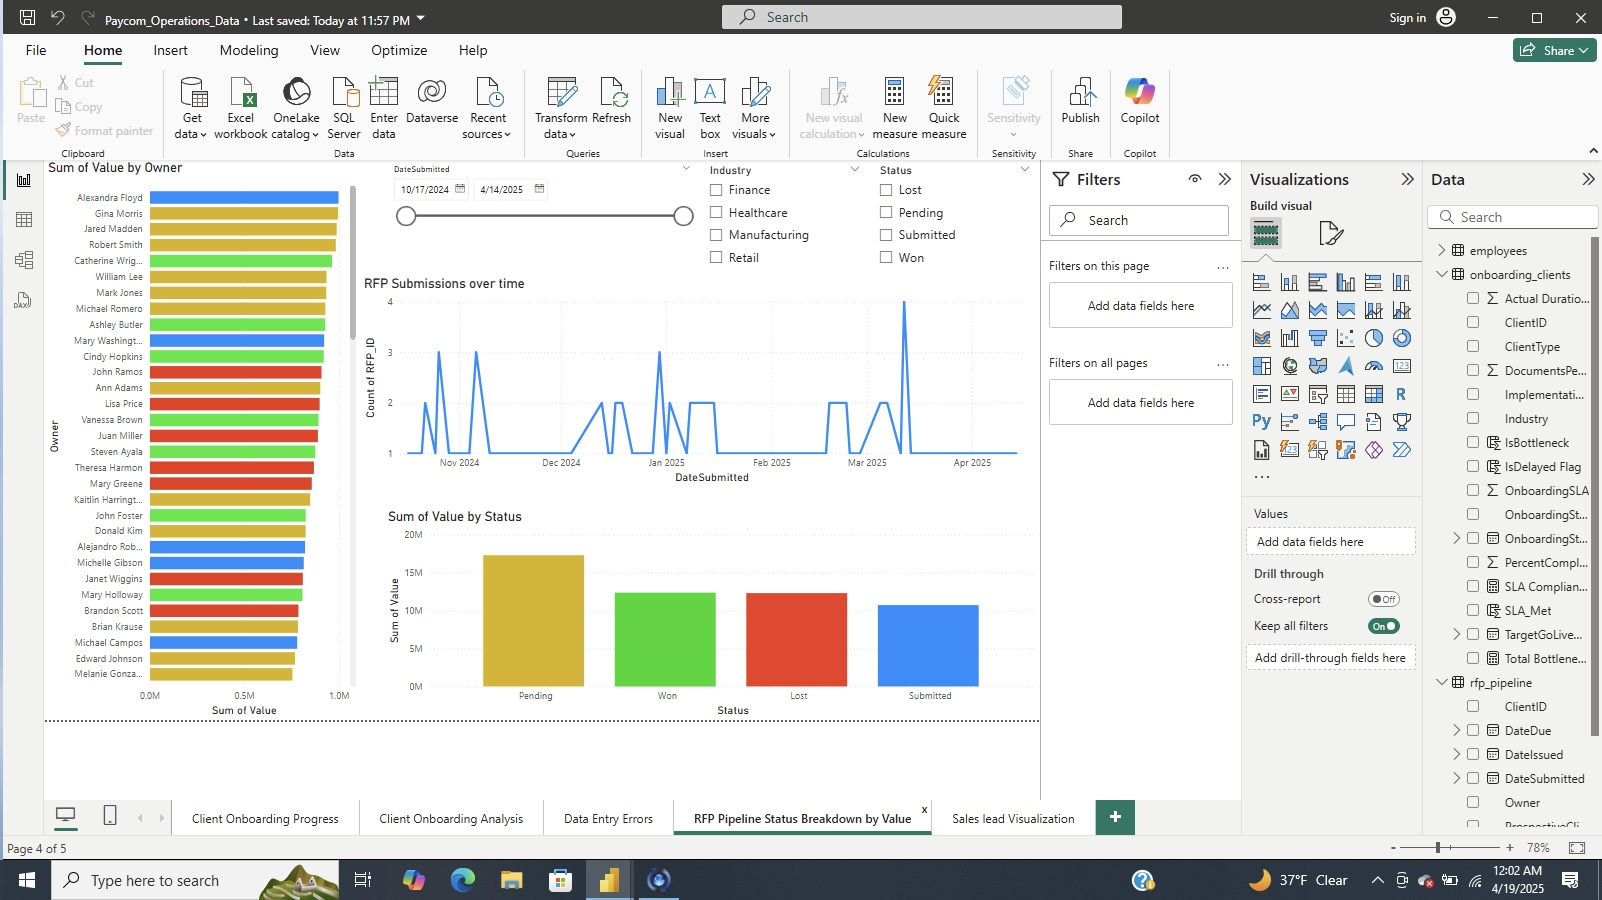

Layout of this report page (visuals, bound fields, positions):
{"tool":"powerbi","page":{"name":"RFP Pipeline Status Breakdown by Value","canvas":[1280,720],"ordinal":3},"visuals":[{"type":"columnChart","fields":{"Category":["rfp_pipeline.Status"],"Y":["Sum(rfp_pipeline.Value)"]},"box":[436.9,448.5,843.1,271.2],"z":0},{"type":"slicer","fields":{"Values":["rfp_pipeline.DateSubmitted"]},"box":[436.9,0,406.1,149.1],"z":1000},{"type":"slicer","fields":{"Values":["onboarding_clients.Industry"]},"box":[843.1,0,218.5,149.1],"z":2000},{"type":"lineChart","title":"RFP Submissions over time","fields":{"Category":["rfp_pipeline.DateSubmitted.Variation.Date Hierarchy.Year"],"Y":["CountNonNull(rfp_pipeline.RFP_ID)"]},"box":[406.1,149.1,873.9,271.2],"z":3000},{"type":"clusteredBarChart","fields":{"Y":["Sum(rfp_pipeline.Value)"],"Category":["rfp_pipeline.Owner"]},"box":[0,0,406.1,719.7],"z":4000},{"type":"slicer","fields":{"Values":["rfp_pipeline.Status"]},"box":[1061.5,0,218.5,149.1],"z":5000}]}

Visuals, with their boxes on the page's 1280x720 design canvas (x1, y1, x2, y2). These are canvas units, not pixel positions in the 1602x900 screenshot, which may show the page scaled, cropped or inside an application window:
columnChart - rfp_pipeline.Status x Sum(rfp_pipeline.Value): x1=437 y1=448 x2=1280 y2=720
slicer - rfp_pipeline.DateSubmitted: x1=437 y1=0 x2=843 y2=149
slicer - onboarding_clients.Industry: x1=843 y1=0 x2=1062 y2=149
"RFP Submissions over time" lineChart: x1=406 y1=149 x2=1280 y2=420
clusteredBarChart - Sum(rfp_pipeline.Value) x rfp_pipeline.Owner: x1=0 y1=0 x2=406 y2=720
slicer - rfp_pipeline.Status: x1=1062 y1=0 x2=1280 y2=149
